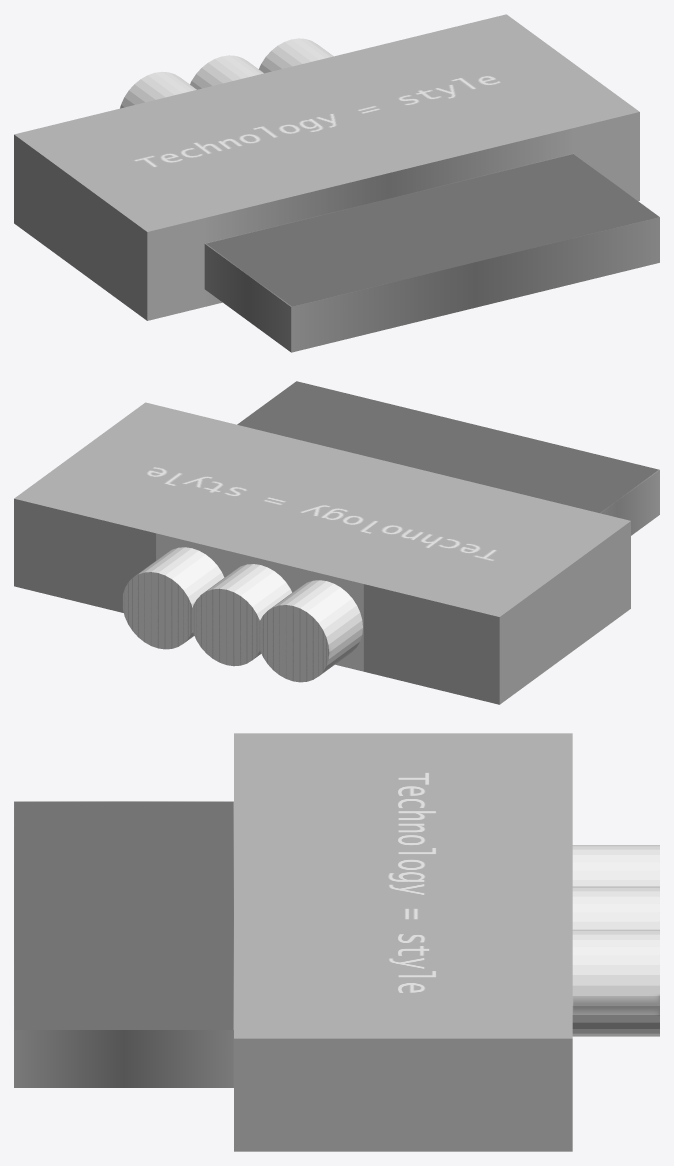
Rendered from iPhoneXScchakou.fbx.
3 views of the same model, one above another, from view 1: azimuth 30°, elevation 25°; view 2: azimuth 150°, elevation 25°; view 3: azimuth 270°, elevation 25° (orthographic). The views are drawn at different scales.
Parts seen in each view (by area): view 1: 柱体.002; view 2: 柱体.002; view 3: 柱体.002.
Boxes of the visible parts, x1,y1,x2,y2 form: 柱体.002: (14, 14, 659, 352); 柱体.002: (14, 381, 659, 704); 柱体.002: (14, 733, 659, 1151).
Size of the model in its own units: 133 by 22.88 by 119.
1 material, 1 textured.
